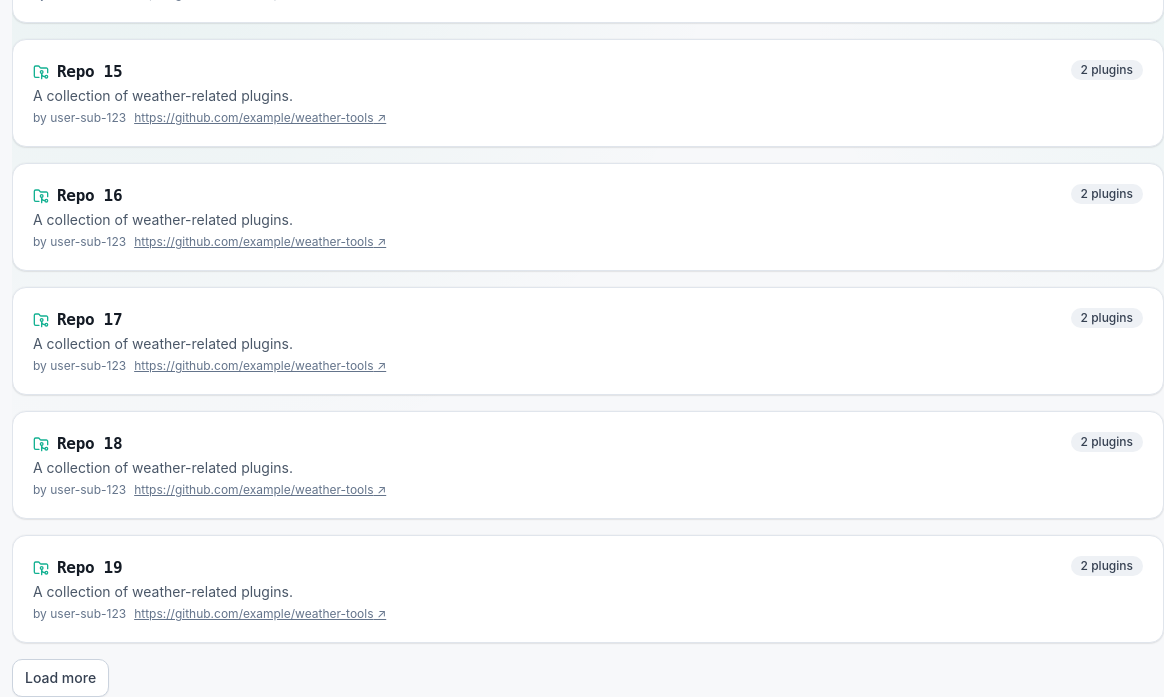
PluginSourceRepositoriesPage › paginates the repository list with Load more
This screenshot has width=1164, height=697.
(page scrolled)
Click the button "Load more".
click(61, 678)  # box [12,659,109,696]
(page scrolled)
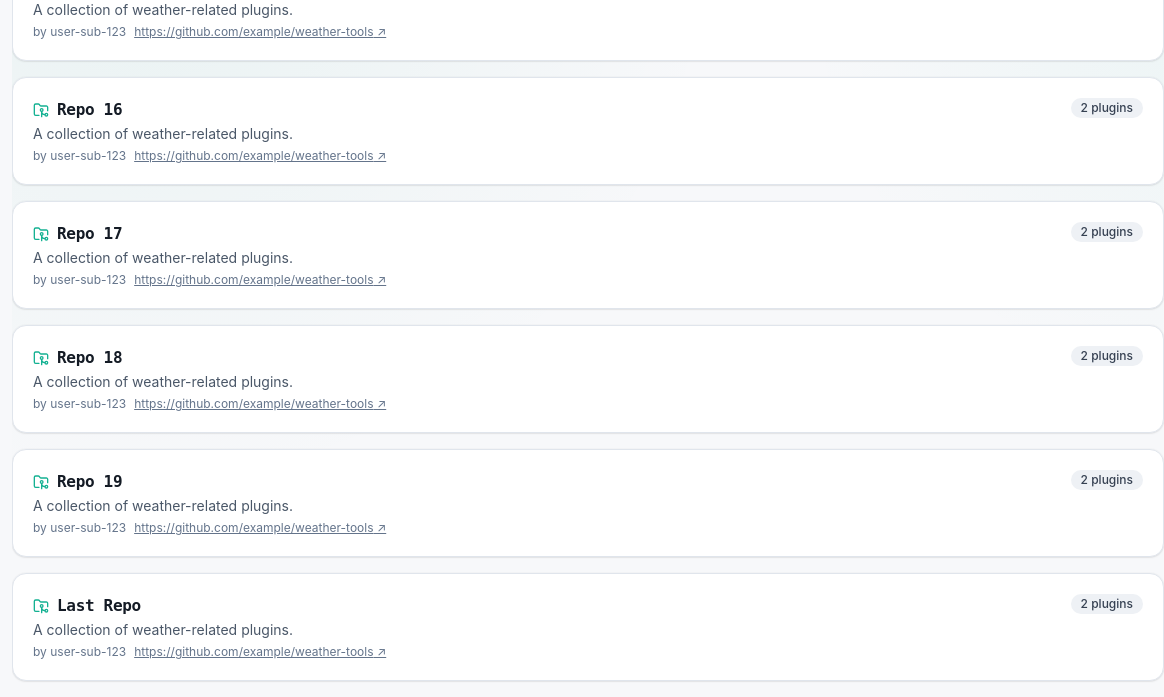
Result: the link "Last Repo" is shown at [57,594,141,618]
Result: the button "Load more" is gone
